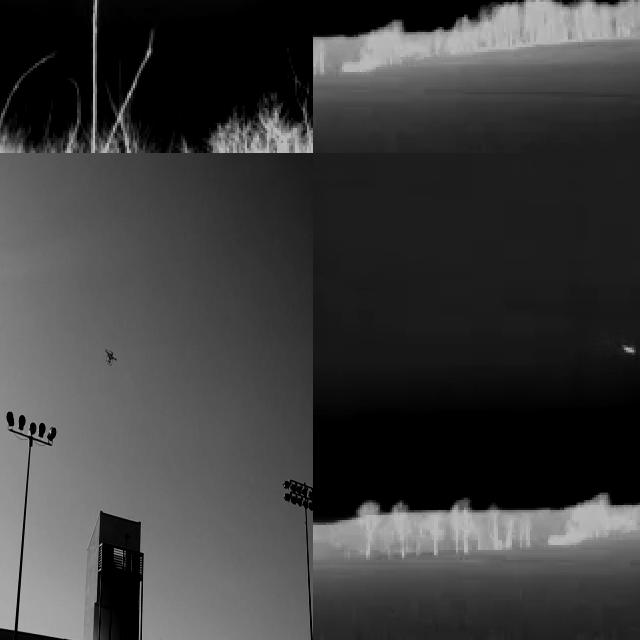1: (613, 339, 640, 369)
drone: (102, 344, 120, 369)
